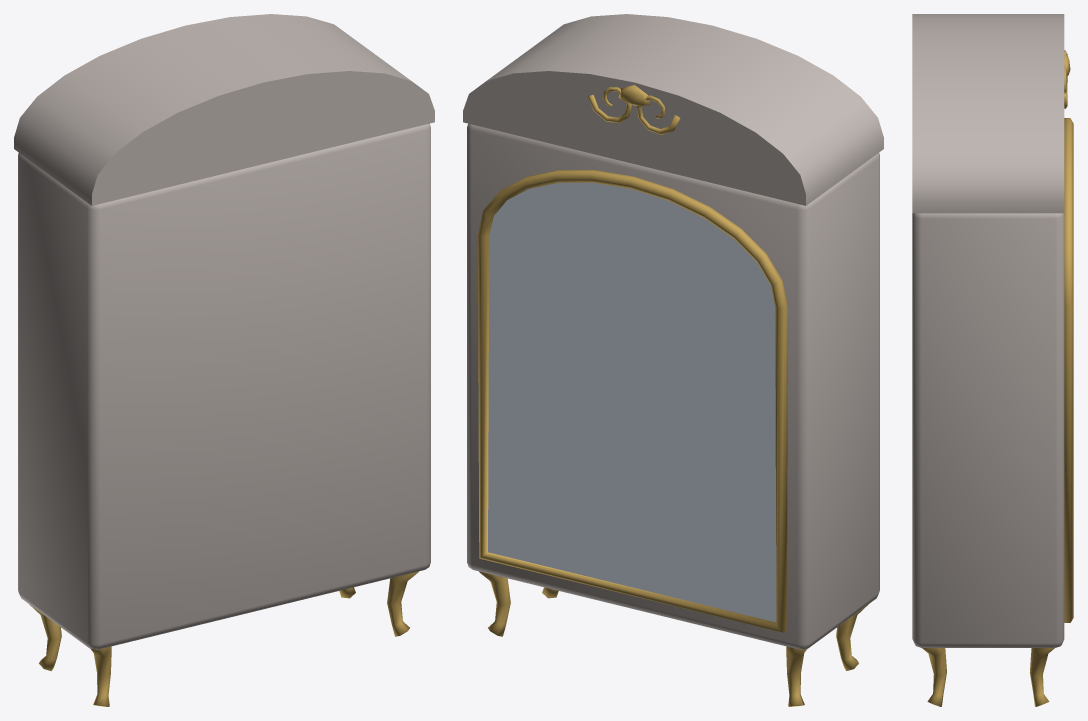
The model's file is cabinet_curio.glb.
3 renders of one model, left to right at view 1: azimuth 30°, elevation 25°; view 2: azimuth 150°, elevation 25°; view 3: azimuth 270°, elevation 25°, orthographic. The views are drawn at different scales.
Visible parts, largest first — view 1: cabinet_curio; view 2: cabinet_curio; view 3: cabinet_curio.
Boxes of the visible parts, <box> form: cabinet_curio: <box>14,14,434,706</box>; cabinet_curio: <box>463,14,883,706</box>; cabinet_curio: <box>912,14,1073,706</box>.
Size of what is drawn, in the model's own units: 1.2 by 2 by 0.5.
